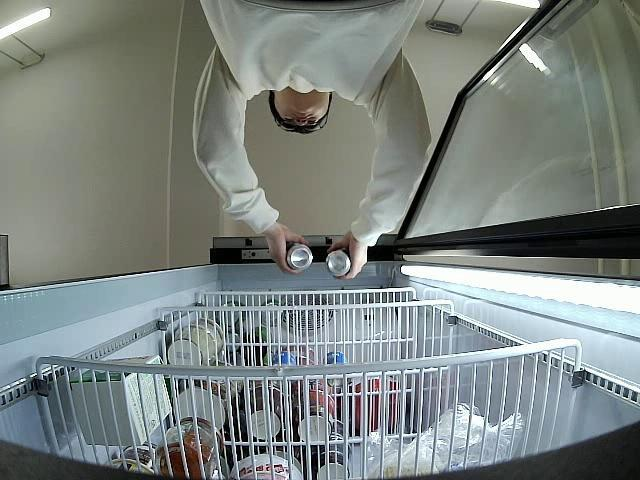13_pocariSweat: (285, 242, 313, 272), (327, 245, 350, 275)
